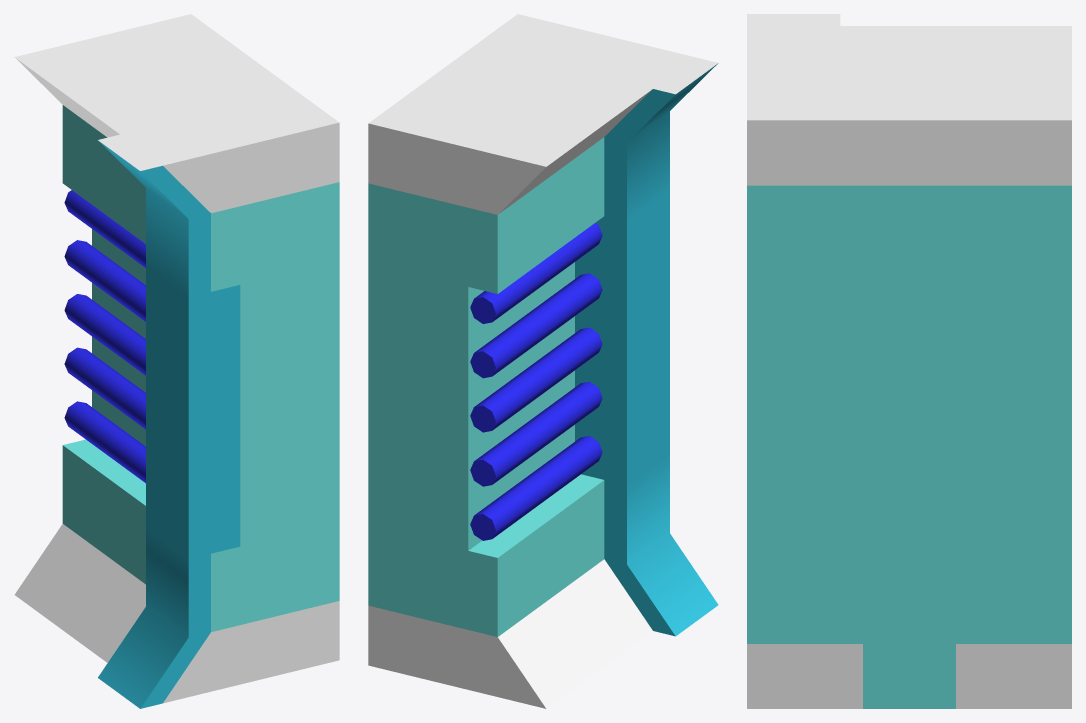
File: WallEnding.fbx
3 renders of one model, left to right at view 1: azimuth 30°, elevation 25°; view 2: azimuth 150°, elevation 25°; view 3: azimuth 270°, elevation 25°, orthographic. The views are drawn at different scales.
Visible parts, largest first — view 1: Ending; view 2: Ending; view 3: Ending.
Part boxes in pixels (<box>): Ending: <box>14,14,339,708</box>; Ending: <box>368,14,718,708</box>; Ending: <box>747,14,1071,708</box>.
Size of the model in its own units: 61.07 by 157 by 78.74.
